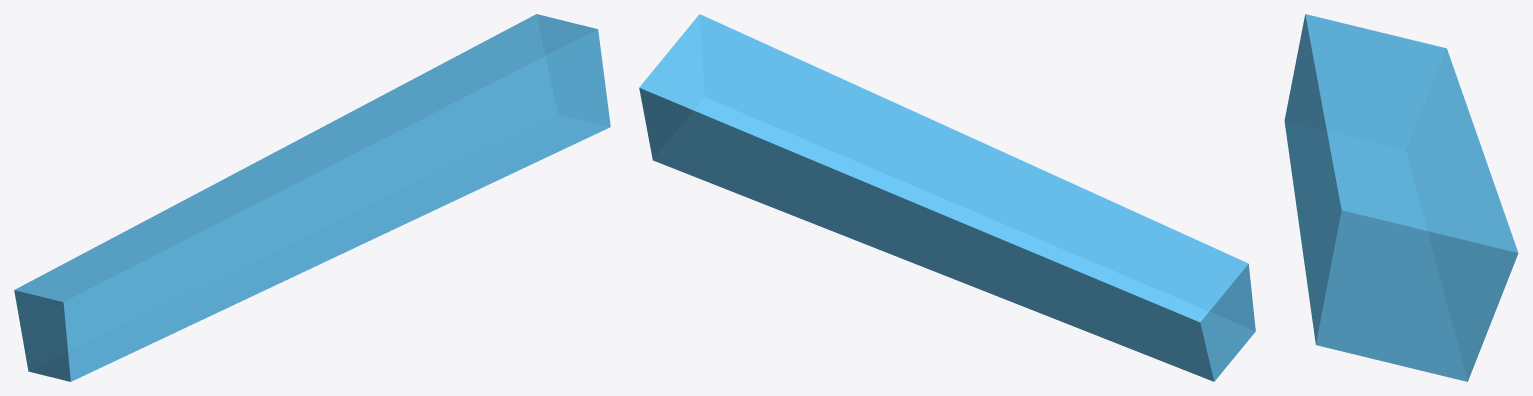
File: Event_421278790_HErechit_40.fbx
3 renders of one model, left to right at view 1: azimuth 30°, elevation 25°; view 2: azimuth 150°, elevation 25°; view 3: azimuth 270°, elevation 25°, orthographic. The views are drawn at different scales.
Parts seen in each view (by area): view 1: Model; view 2: Model; view 3: Model.
Boxes of the visible parts, x1,y1,x2,y2 form: Model: (14, 14, 610, 381); Model: (639, 14, 1255, 381); Model: (1284, 14, 1518, 381).
Bounding box in the file's own units: 2.77 × 1.08 × 0.7115.
